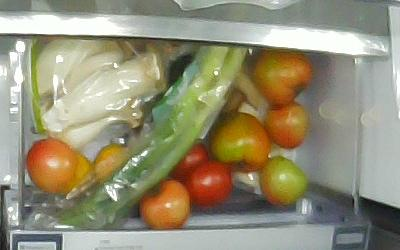tangerine: (65, 152, 92, 190)
tangerine_vinyl: (91, 141, 134, 185)
tomato: (206, 110, 270, 172), (250, 49, 313, 107), (25, 136, 78, 194), (138, 178, 190, 228), (258, 155, 308, 206), (181, 159, 233, 208), (262, 100, 310, 150), (168, 141, 212, 183)
